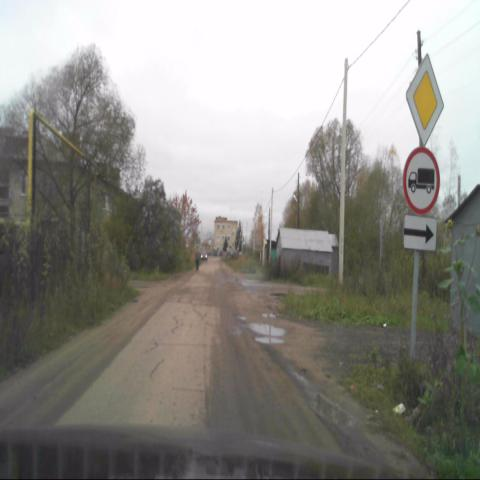8_3_1: (402, 213, 438, 256)
